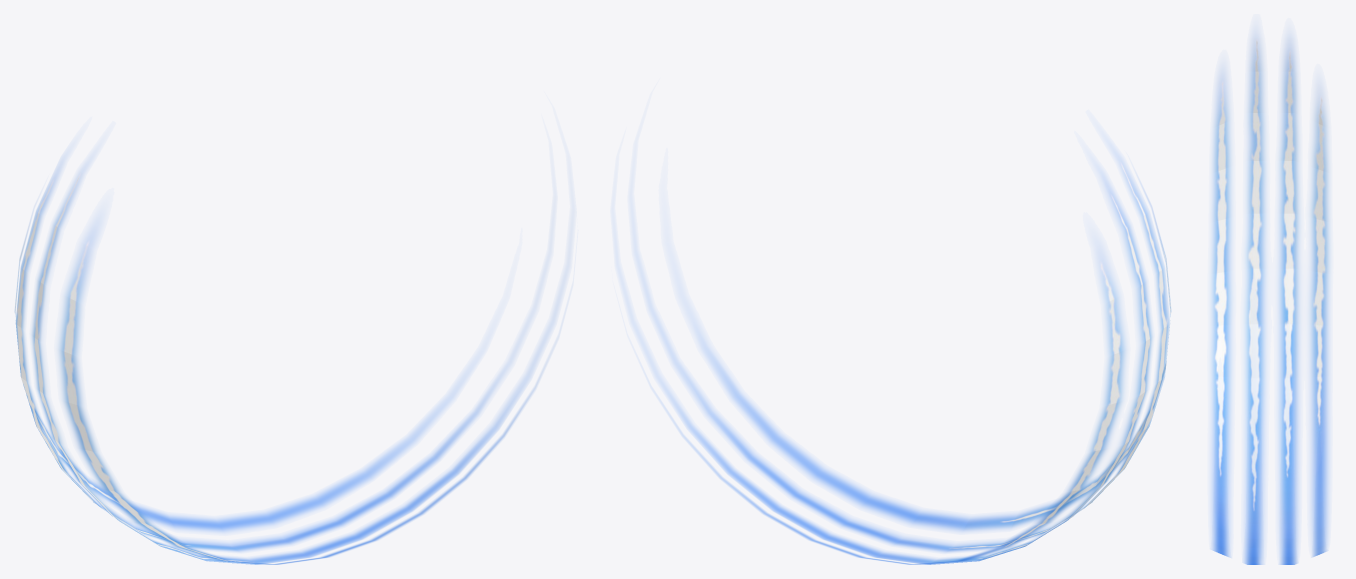
File: blue_slash.glb
3 views of the same model, side by side, from view 1: azimuth 30°, elevation 25°; view 2: azimuth 150°, elevation 25°; view 3: azimuth 270°, elevation 25° (orthographic). The views are drawn at different scales.
Visible parts, largest first — view 1: BlueSlash; view 2: BlueSlash; view 3: BlueSlash.
Part boxes in pixels (x1,y1,x2,y2): BlueSlash: [14, 166, 537, 564]; BlueSlash: [666, 157, 1171, 564]; BlueSlash: [1211, 37, 1329, 564].
Bounding box in the file's own units: 2.15 × 1.84 × 0.536.
Materials: 1 (1 with a texture image).
